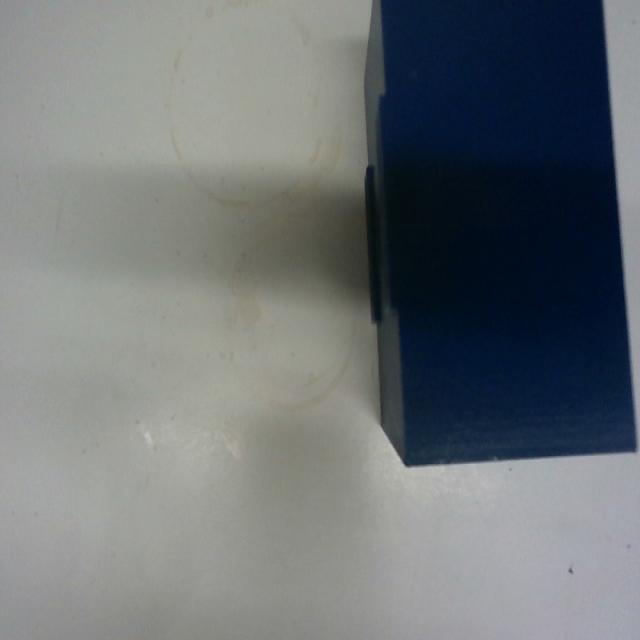Blue Cuboid: (360, 0, 638, 468)
